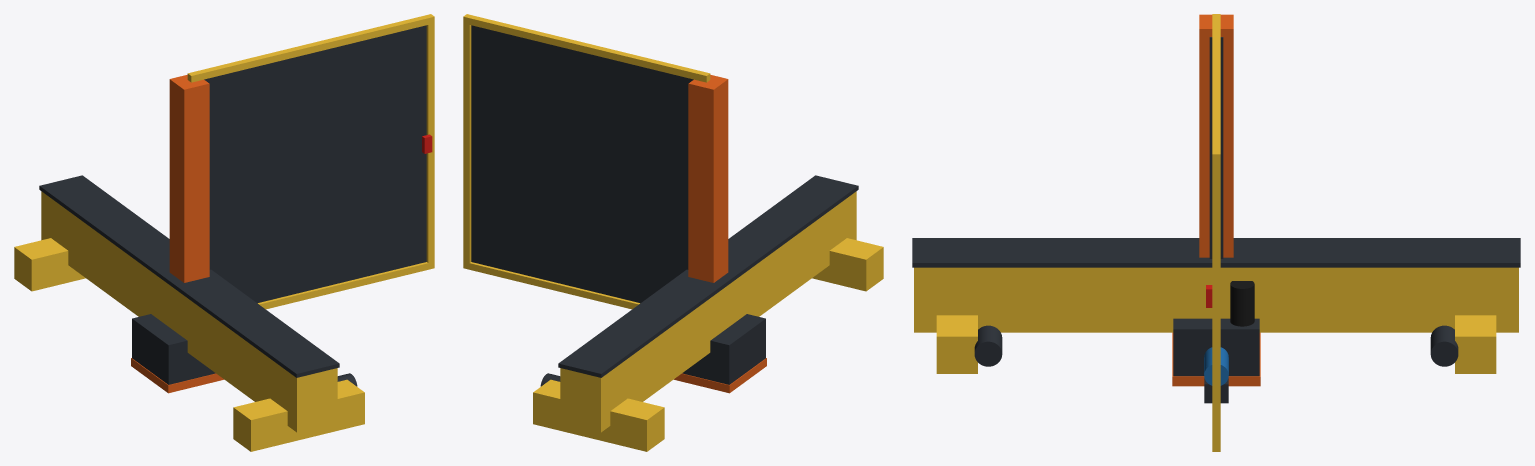
File: moving.glb
3 views of the same model, side by side, from view 1: azimuth 30°, elevation 25°; view 2: azimuth 150°, elevation 25°; view 3: azimuth 270°, elevation 25° (orthographic). The views are drawn at different scales.
Parts seen in each view (by area): view 1: gate_mesh, bridge_girder, bridge_cover, mast, gate, end_truck, carriage, end_truck_2, gate_frame, carriage_band; view 2: gate_mesh, bridge_girder, bridge_cover, mast, gate, end_truck_2, carriage, end_truck, gate_frame, carriage_band; view 3: bridge_girder, bridge_cover, mast, carriage, gate, end_truck, end_truck_2, mast_rack, mast_motor, drive_motor, drive_motor_2, carriage_band.
Part boxes in pixels (box(x1,y1,x2,y2)): gate_mesh: box(204, 25, 426, 303); bridge_girder: box(41, 191, 337, 432); bridge_cover: box(39, 175, 339, 377); mast: box(169, 74, 209, 282); gate: box(187, 14, 434, 269); end_truck: box(233, 379, 364, 451); carriage: box(132, 314, 215, 384); end_truck_2: box(14, 238, 85, 291); gate_frame: box(258, 261, 434, 309); carriage_band: box(131, 358, 223, 393); gate_mesh: box(471, 25, 693, 303); bridge_girder: box(560, 191, 856, 432); bridge_cover: box(558, 175, 858, 377); mast: box(688, 74, 728, 282); gate: box(463, 14, 710, 268); end_truck_2: box(533, 379, 664, 451); carriage: box(682, 314, 765, 384); end_truck: box(812, 238, 883, 291); gate_frame: box(463, 261, 639, 309); carriage_band: box(674, 358, 766, 393); bridge_girder: box(914, 267, 1518, 332); bridge_cover: box(912, 238, 1520, 267); mast: box(1199, 14, 1233, 257); carriage: box(1173, 318, 1259, 376); gate: box(1212, 14, 1220, 451); end_truck: box(936, 315, 977, 373); end_truck_2: box(1455, 315, 1496, 373); mast_rack: box(1209, 37, 1223, 258); mast_motor: box(1230, 281, 1254, 326); drive_motor: box(974, 325, 1002, 366); drive_motor_2: box(1430, 325, 1458, 366); carriage_band: box(1172, 332, 1260, 386).
Bounding box in the file's own units: 2.37 × 2.28 × 3.52.
